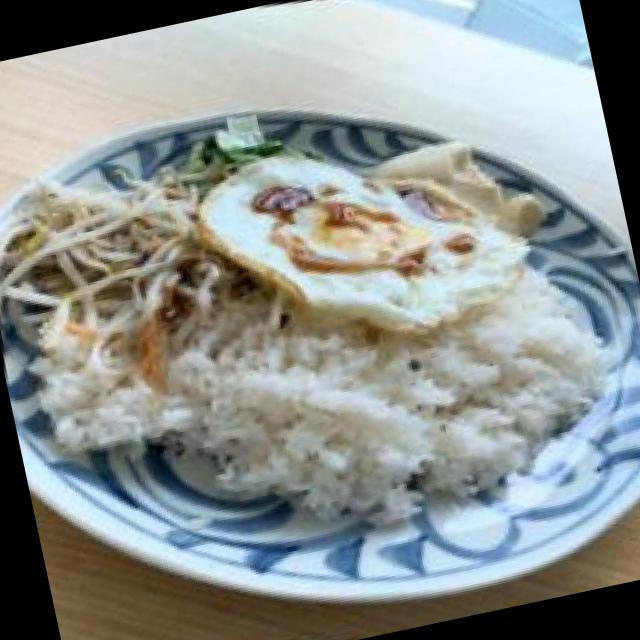fried_eggs: (175, 100, 546, 384)
mung_bean_sprouts: (18, 164, 215, 332)
rice: (194, 284, 550, 518)
